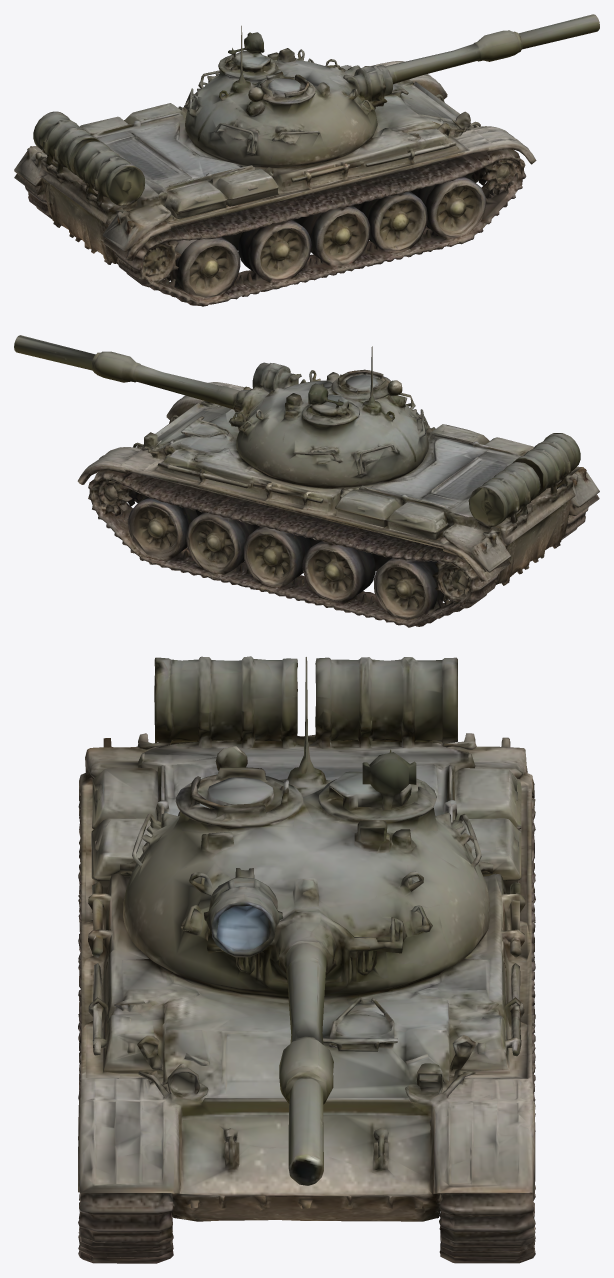
File: tank_t62.glb
3 views of the same model, one above another, from view 1: azimuth 30°, elevation 25°; view 2: azimuth 150°, elevation 25°; view 3: azimuth 270°, elevation 25° (orthographic). The views are drawn at different scales.
Visible parts, largest first — view 1: node_0; view 2: node_0; view 3: node_0.
Part boxes in pixels (x1,y1,x2,y2): node_0: (14,14,599,306); node_0: (14,335,599,627); node_0: (78,656,535,1263).
Size of the model in its own units: 1.12 by 0.4468 by 0.4216.
1 material, 1 textured.
